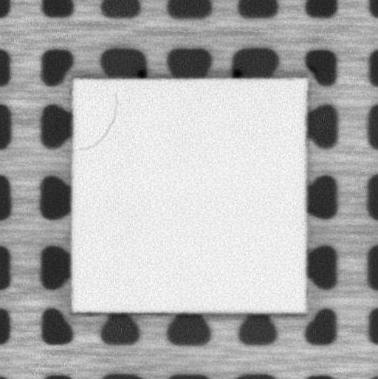DIE_CRACK: (80, 92, 119, 152)
